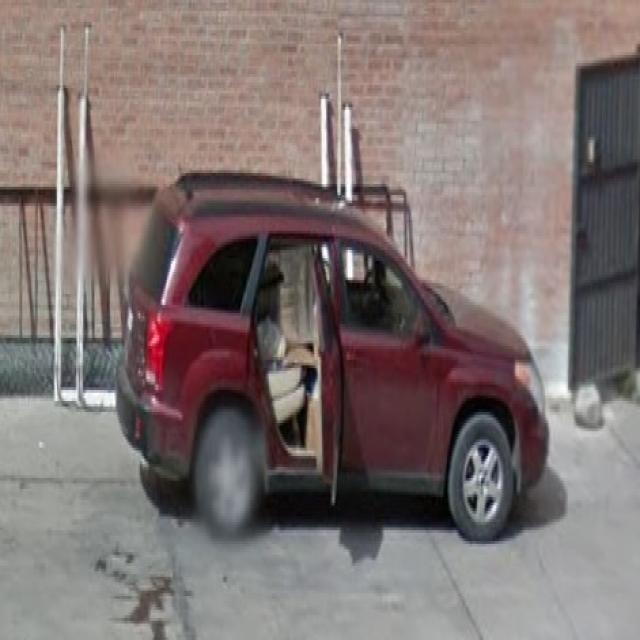cars: (116, 187, 548, 541)
